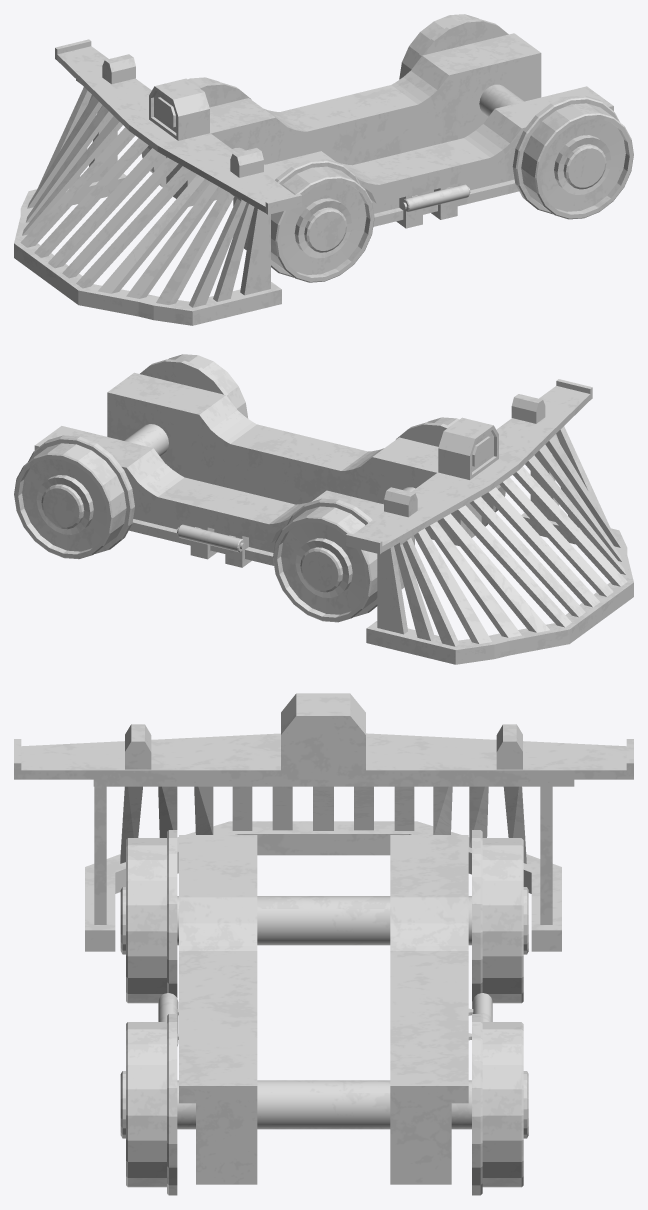
File: Steam Train FrontParts_A_001.fbx
3 renders of one model, top to bottom at view 1: azimuth 30°, elevation 25°; view 2: azimuth 150°, elevation 25°; view 3: azimuth 270°, elevation 25°, orthographic. The views are drawn at different scales.
Visible parts, largest first — view 1: Steam_Train_FrontParts_A_001; view 2: Steam_Train_FrontParts_A_001; view 3: Steam_Train_FrontParts_A_001.
Boxes of the visible parts, bbox=[...] form: Steam_Train_FrontParts_A_001: bbox=[14, 14, 633, 325]; Steam_Train_FrontParts_A_001: bbox=[14, 354, 633, 664]; Steam_Train_FrontParts_A_001: bbox=[14, 693, 633, 1195].
Size of the model in its own units: 250 by 76.04 by 175.
Materials: 2 (2 with a texture image).
